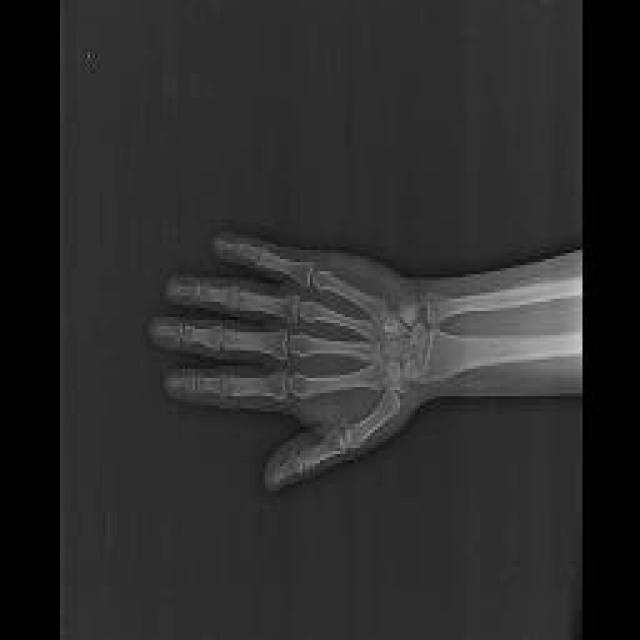normal: (156, 236, 582, 479)
